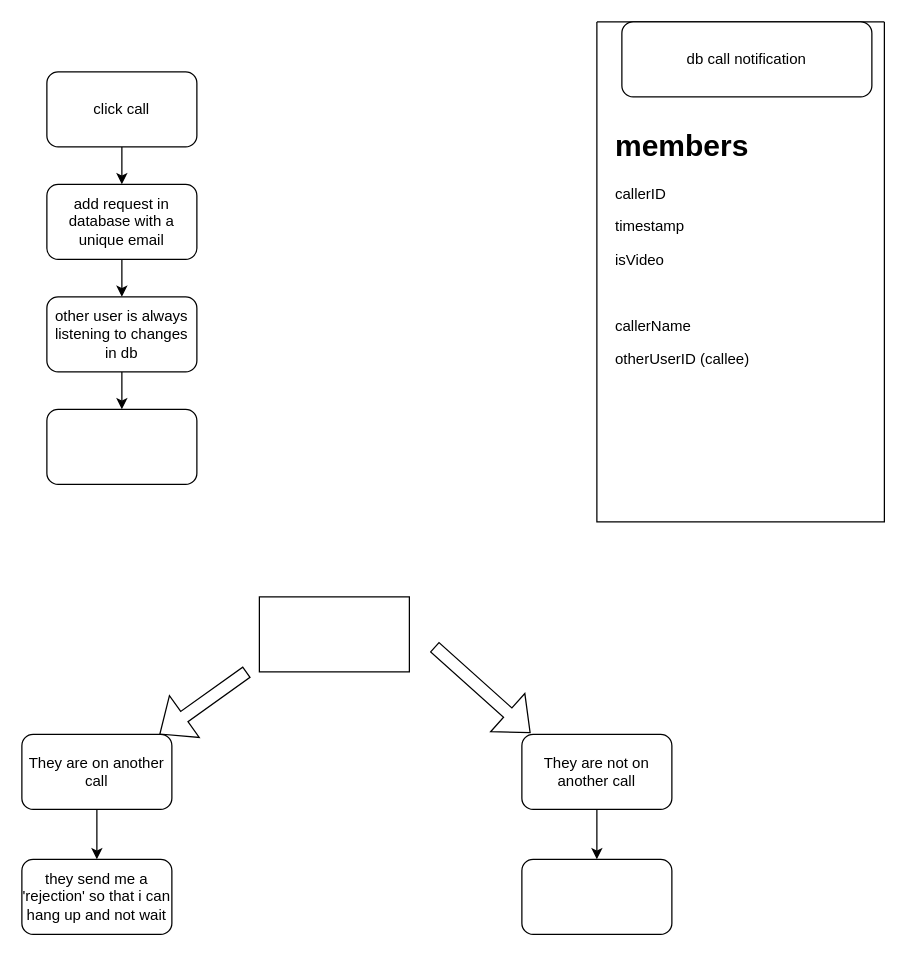
The diagram is 906 pixels wide and 956 high, and some of its shapes have lost their labels. The shapes that lost their labels are listed below. From the top down, each one's centre as x and y in pixels, then its label:
(121,446): accepts call or rejects it
(333,634): I call someone
(596,896): They can accept or reject my call
